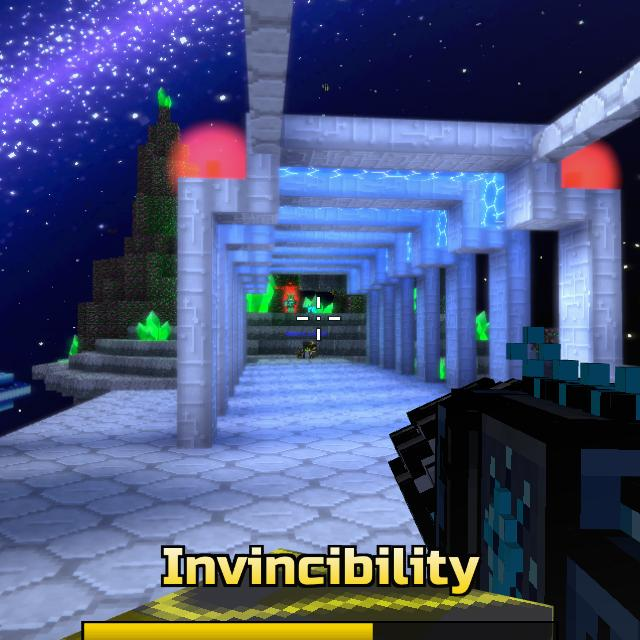Enemy: (284, 294, 297, 313)
